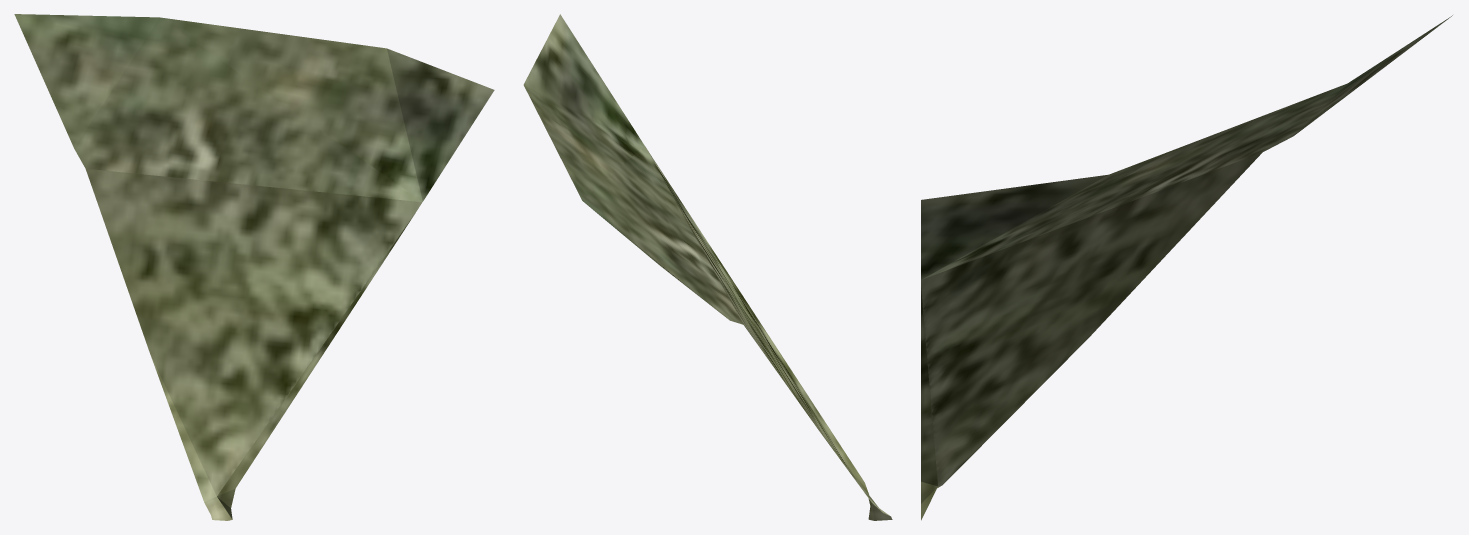
3 views of the same model, side by side, from view 1: azimuth 30°, elevation 25°; view 2: azimuth 150°, elevation 25°; view 3: azimuth 270°, elevation 25° (orthographic). The views are drawn at different scales.
Size of the model in its own units: 1.63 by 2.01 by 1.97.
Materials: 1 (1 with a texture image).
